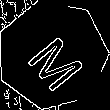M_NE: (18, 21, 87, 89)
